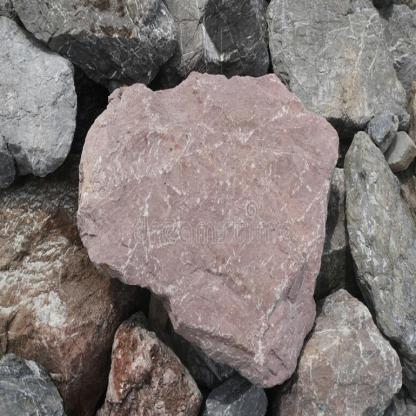Sedimentary_Limestone: (75, 67, 324, 385), (263, 3, 416, 138), (342, 131, 415, 379), (0, 13, 86, 207), (276, 290, 394, 415), (86, 324, 200, 415)
